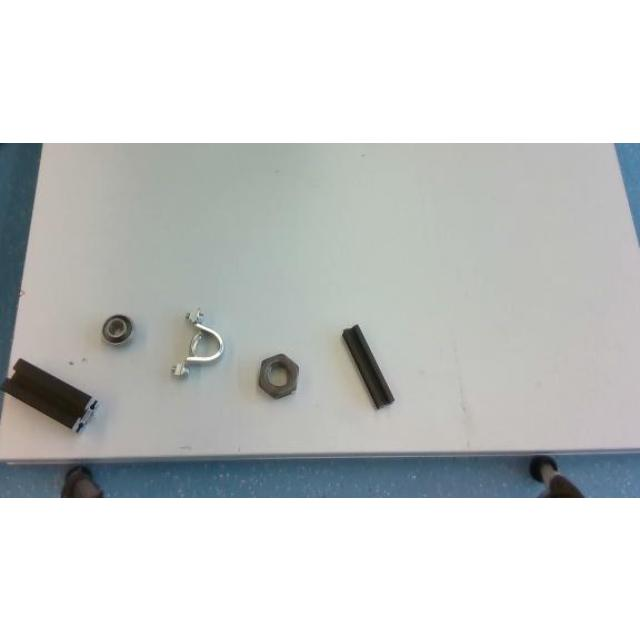Bearing2: (101, 313, 132, 343)
F20_20_B: (342, 323, 393, 407)
Housing: (170, 306, 224, 376)
M30: (258, 354, 298, 396)
S40_40_B: (3, 358, 96, 430)
